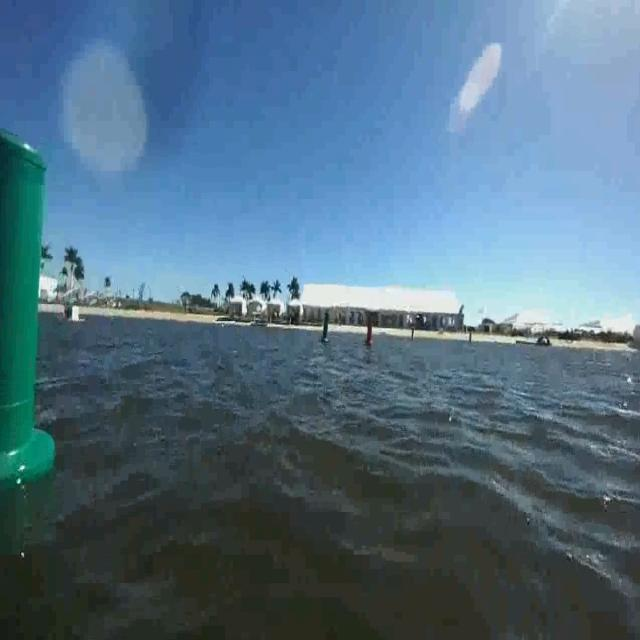green-column-buoy: (0, 138, 54, 492), (323, 312, 334, 346)
red-column-buoy: (364, 316, 374, 345)
